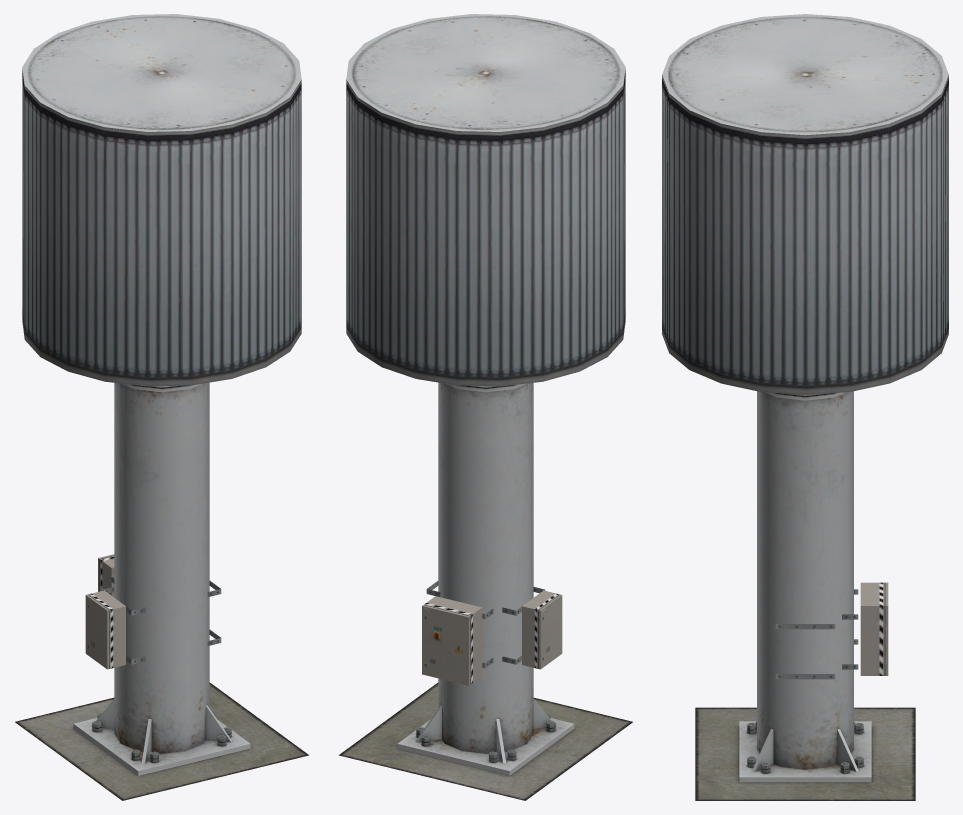
File: jw_rotunda_1a.gltf
3 views of the same model, side by side, from view 1: azimuth 30°, elevation 25°; view 2: azimuth 150°, elevation 25°; view 3: azimuth 270°, elevation 25° (orthographic). The views are drawn at different scales.
Parts seen in each view (by area): view 1: jw_rotunda_1a; view 2: jw_rotunda_1a; view 3: jw_rotunda_1a.
Part boxes in pixels (bbox=[...]): jw_rotunda_1a: bbox=[15, 14, 308, 800]; jw_rotunda_1a: bbox=[339, 14, 632, 800]; jw_rotunda_1a: bbox=[662, 14, 948, 800].
Bounding box in the file's own units: 2.6 × 6.9 × 2.6.
